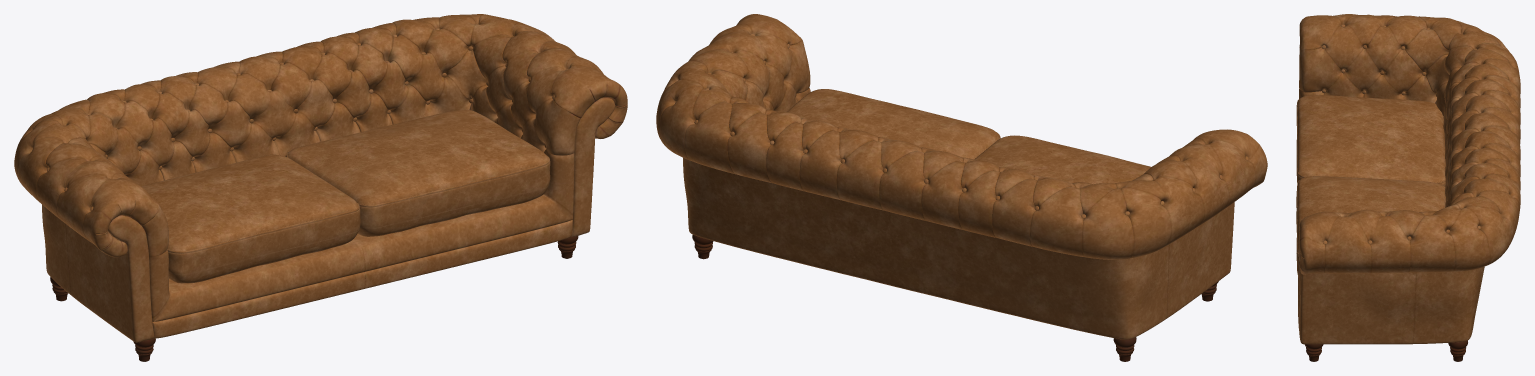
Rendered from B0714QGC72.glb.
The picture shows the model from 3 angles, left to right: view 1: azimuth 30°, elevation 25°; view 2: azimuth 150°, elevation 25°; view 3: azimuth 270°, elevation 25°; orthographic projection. The views are drawn at different scales.
Parts seen in each view (by area): view 1: RootNode; view 2: RootNode; view 3: RootNode.
Boxes of the visible parts, x1,y1,x2,y2 form: RootNode: (14,14,627,361); RootNode: (656,14,1267,361); RootNode: (1296,14,1520,361).
Size of the model in its own units: 2.37 by 0.7599 by 0.989.
1 material, 1 textured.
